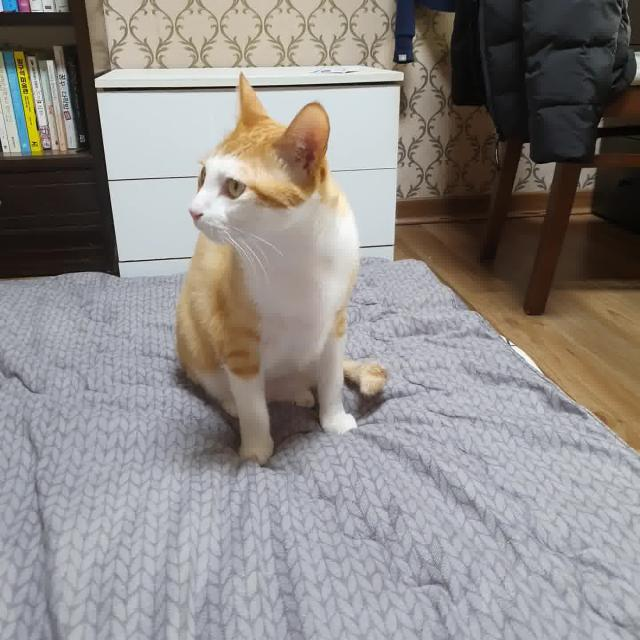cat: (167, 68, 390, 470)
